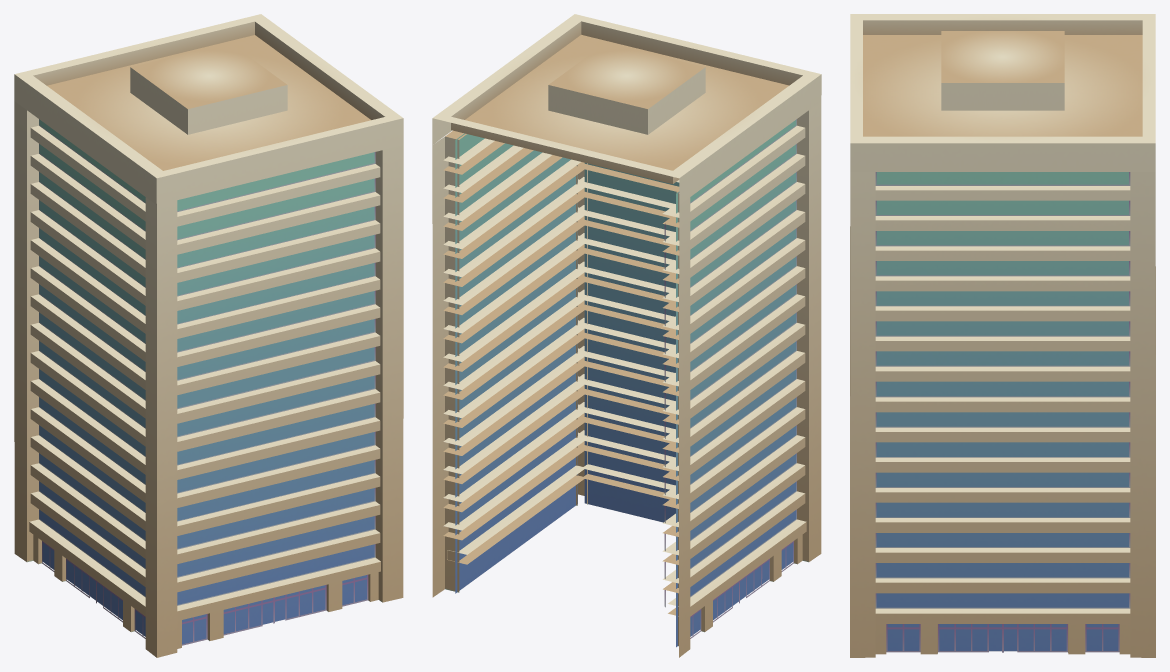
The picture shows the model from 3 angles, left to right: view 1: azimuth 30°, elevation 25°; view 2: azimuth 150°, elevation 25°; view 3: azimuth 270°, elevation 25°; orthographic projection. The views are drawn at different scales.
Parts seen in each view (by area): view 1: SM_16F_03; view 2: SM_16F_03; view 3: SM_16F_03.
Part boxes in pixels (x1=…): SM_16F_03: x1=14, y1=14, x2=403, y2=657; SM_16F_03: x1=432, y1=14, x2=821, y2=657; SM_16F_03: x1=850, y1=14, x2=1155, y2=657.
Bounding box in the file's own units: 28.54 × 55.25 × 28.54.
